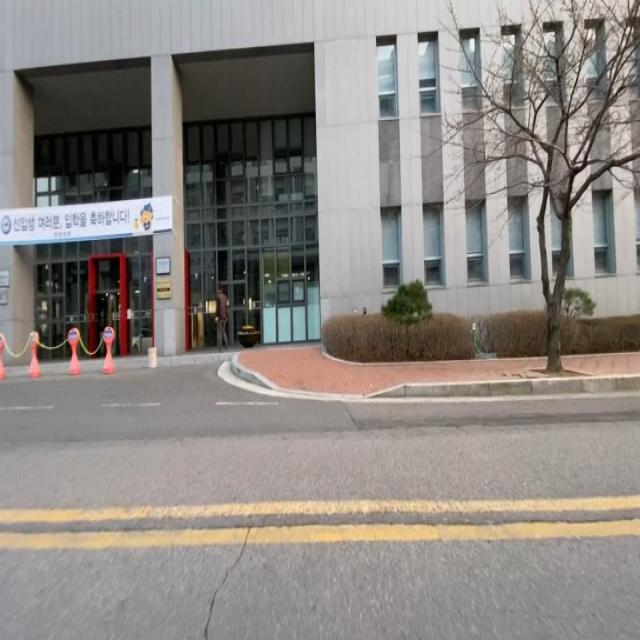sidewalk: (237, 347, 548, 395), (562, 352, 640, 376)
